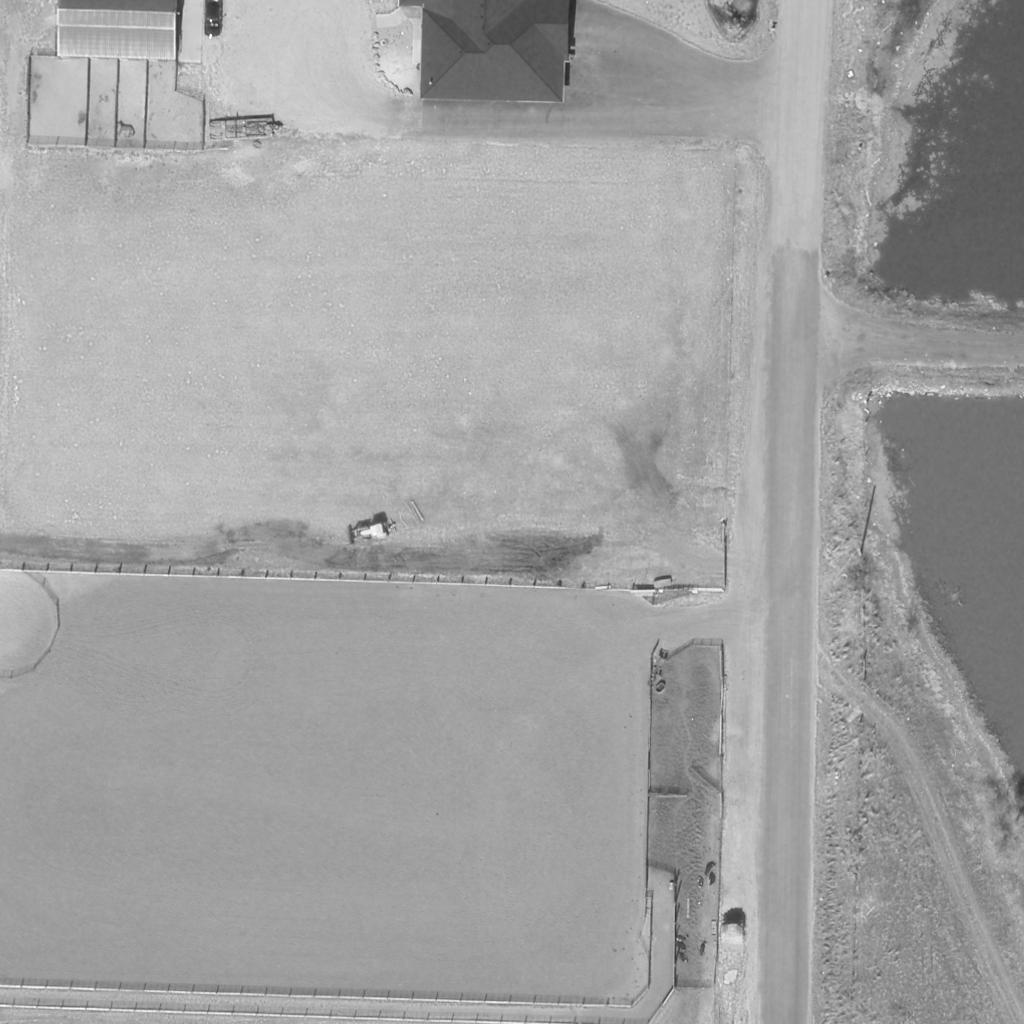vehicle: (348, 520, 388, 546), (205, 0, 223, 38)
